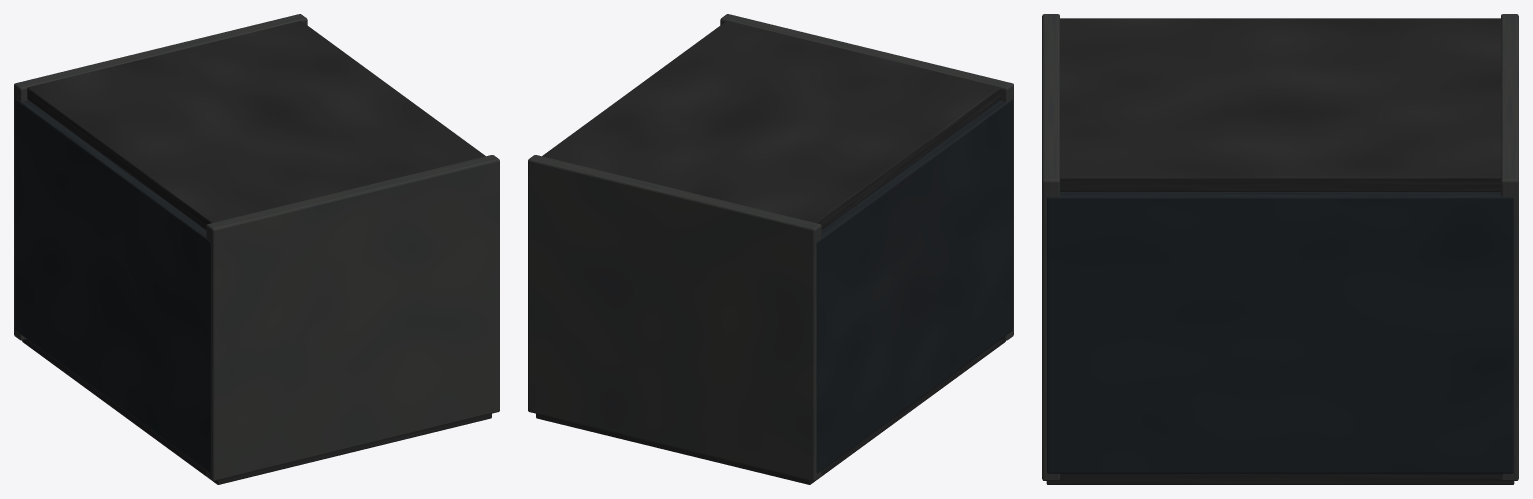
Rendered from corridor_segment_B_v3.glb.
3 renders of one model, left to right at view 1: azimuth 30°, elevation 25°; view 2: azimuth 150°, elevation 25°; view 3: azimuth 270°, elevation 25°, orthographic. The views are drawn at different scales.
Parts seen in each view (by area): view 1: Frame_-2.55, Ceil, WallL, Frame_2.55, Floor; view 2: Frame_2.55, Ceil, WallL, Frame_-2.55, Floor; view 3: WallR, Ceil, Floor, Frame_2.55, Frame_-2.55.
Boxes of the visible parts, box(x1,y1,x2,y2) form: Frame_-2.55: box(206, 155, 499, 481); Ceil: box(27, 21, 485, 229); WallL: box(15, 99, 211, 473); Frame_2.55: box(14, 14, 307, 340); Floor: box(22, 339, 491, 484); Frame_2.55: box(528, 155, 821, 481); Ceil: box(542, 21, 1000, 229); WallL: box(816, 99, 1012, 473); Frame_-2.55: box(720, 14, 1013, 340); Floor: box(536, 339, 1005, 484); WallR: box(1047, 191, 1513, 473); Ceil: box(1059, 18, 1501, 191); Floor: box(1046, 473, 1514, 484); Frame_2.55: box(1501, 14, 1518, 480); Frame_-2.55: box(1042, 14, 1059, 480).
Size of the model in its own units: 4.42 by 3.79 by 5.3.
4 materials, 4 textured.
